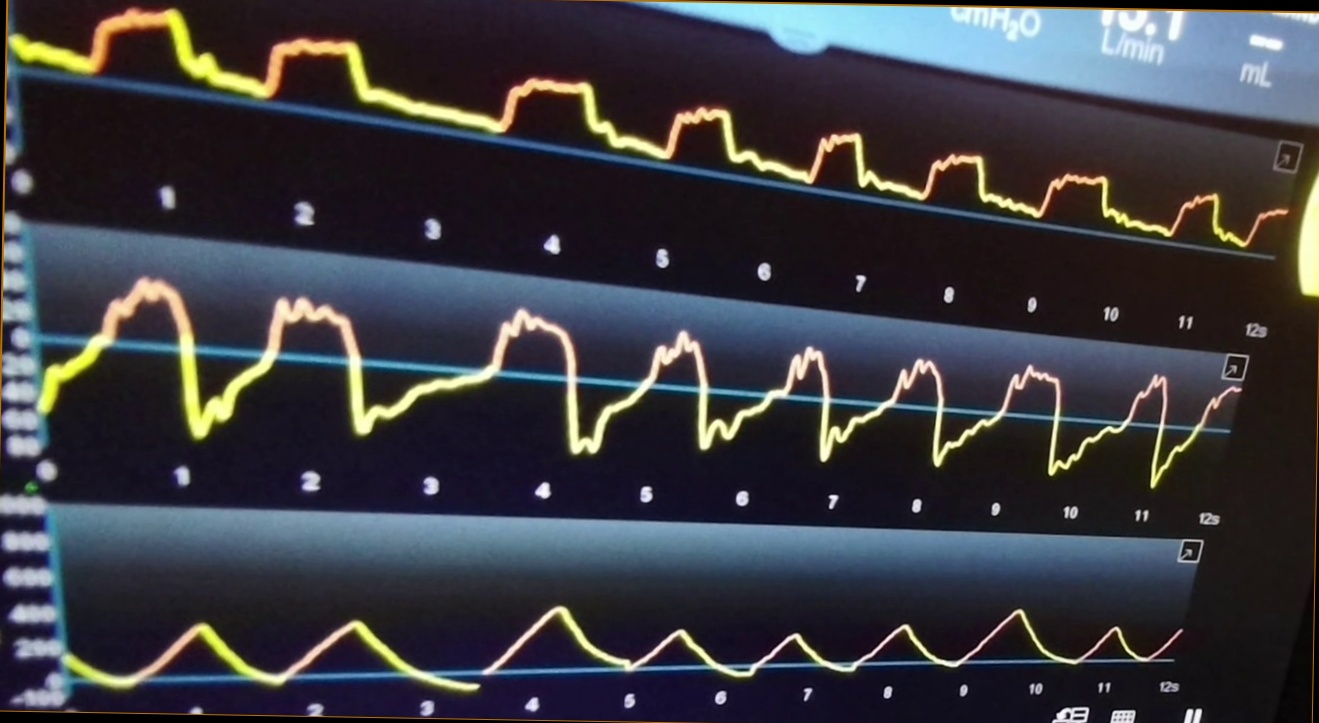Accumulation Flow: (42, 269, 1238, 492)
Volume: (66, 566, 1188, 705)
